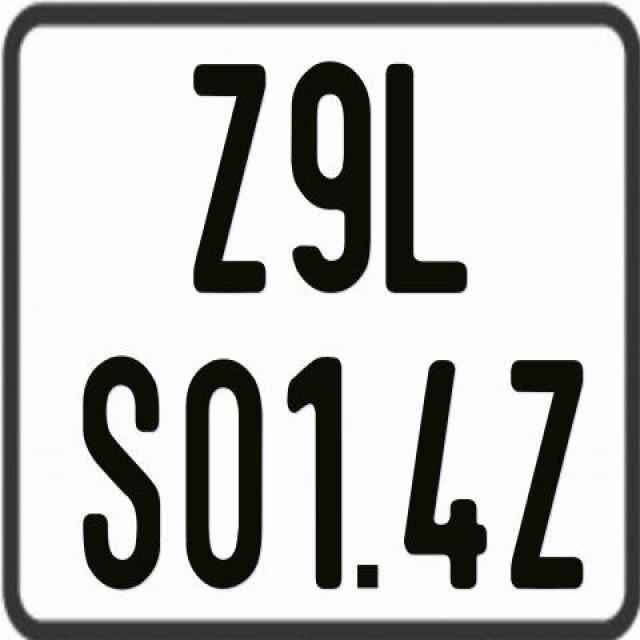0: (181, 358, 260, 598)
1: (284, 355, 340, 587)
4: (403, 357, 493, 589)
9: (286, 61, 366, 296)
L: (385, 59, 468, 291)
S: (82, 352, 166, 595)
Z: (506, 357, 584, 596), (190, 61, 266, 300)
